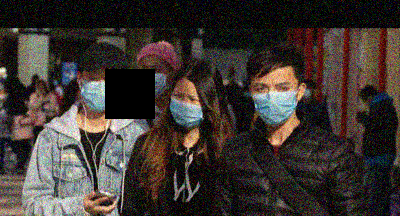with_mask: (250, 78, 301, 127), (79, 67, 118, 112), (168, 88, 206, 129), (136, 62, 170, 97)
